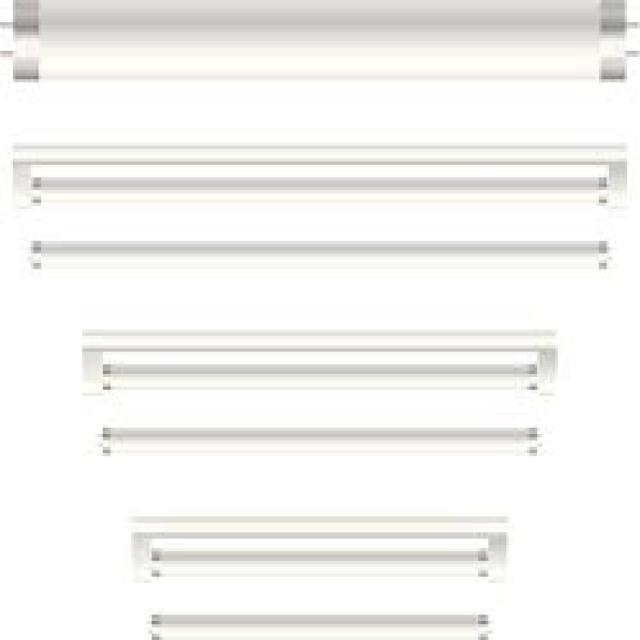tubelight_off: (3, 0, 640, 89), (9, 143, 640, 214), (78, 320, 560, 399), (123, 518, 509, 578), (19, 235, 625, 273), (89, 424, 539, 458), (140, 609, 502, 640)
